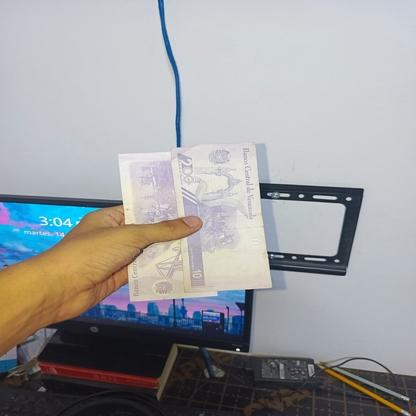vef_back: (170, 141, 272, 293), (117, 151, 186, 302)
